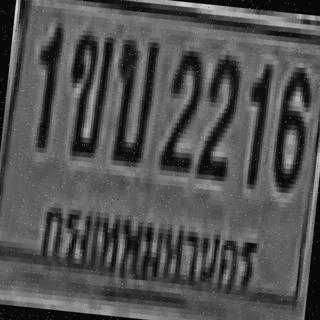A02: (62, 24, 114, 154)
A26: (108, 34, 158, 163)
N01: (28, 18, 62, 146), (240, 58, 271, 185)
N02: (194, 48, 240, 177), (158, 44, 203, 168)
N06: (270, 61, 312, 189)
P04: (33, 190, 264, 303)
